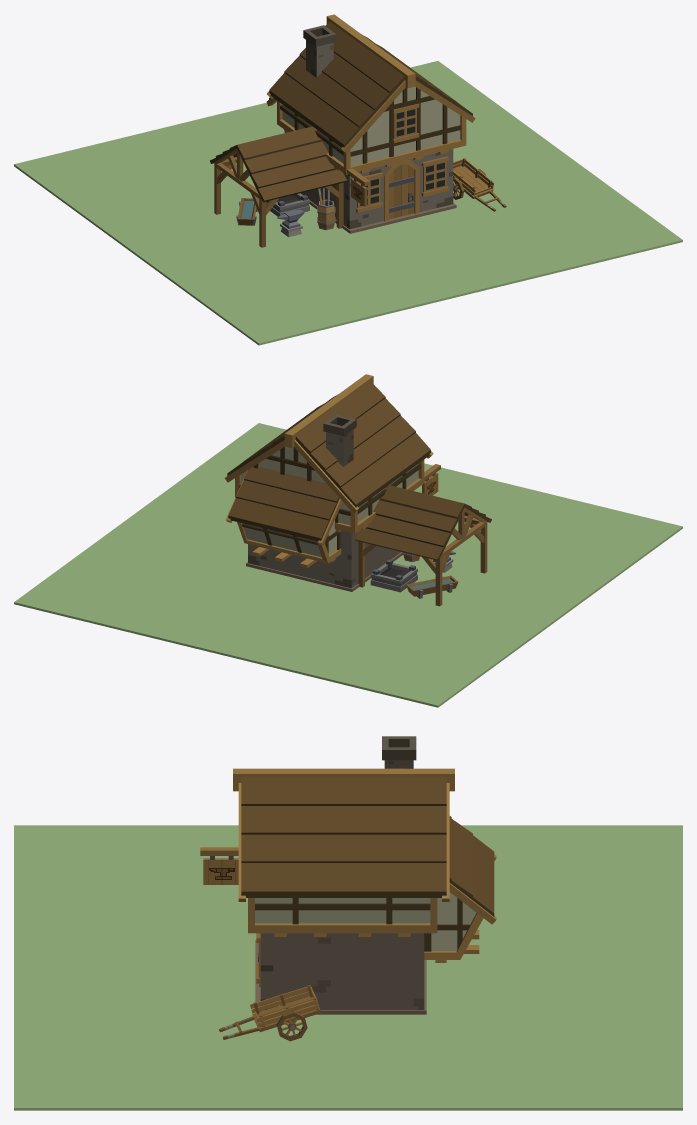
The model's file is blacksmith.glb.
The picture shows the model from 3 angles, top to bottom: view 1: azimuth 30°, elevation 25°; view 2: azimuth 150°, elevation 25°; view 3: azimuth 270°, elevation 25°; orthographic projection. The views are drawn at different scales.
Parts seen in each view (by area): view 1: Ground, Blacksmith; view 2: Ground, Blacksmith; view 3: Ground, Blacksmith.
Part boxes in pixels (x1,y1,x2,y2): Ground: (14, 61, 682, 345); Blacksmith: (210, 14, 506, 247); Ground: (14, 423, 682, 707); Blacksmith: (225, 374, 491, 606); Ground: (14, 825, 682, 1110); Blacksmith: (200, 736, 496, 1041).
Bounding box in the file's own units: 32 × 11.59 × 32.
2 materials, 1 textured.
